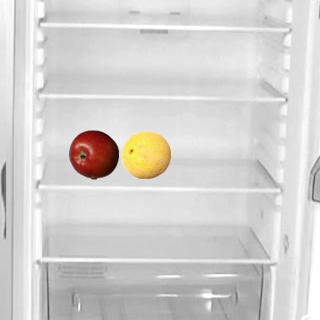Apple Braeburn: (68, 129, 118, 179)
Cantaloupe 1: (120, 129, 170, 179)
